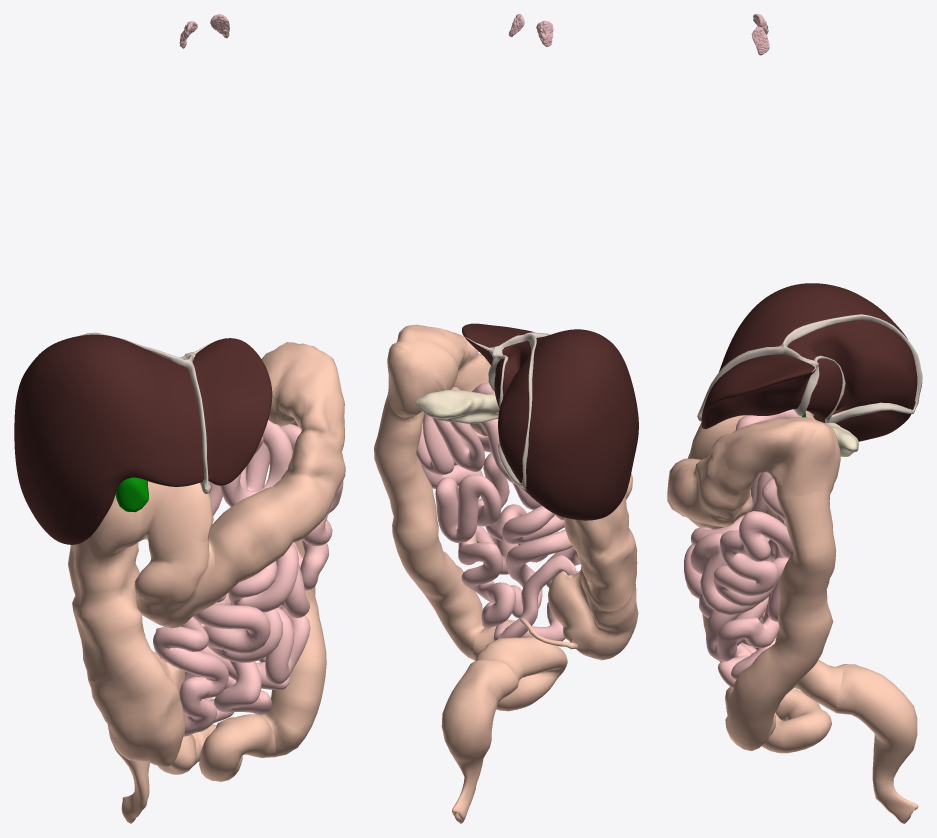
The model's file is digestive-meshopt.glb.
3 views of the same model, side by side, from view 1: azimuth 30°, elevation 25°; view 2: azimuth 150°, elevation 25°; view 3: azimuth 270°, elevation 25° (orthographic). The views are drawn at different scales.
Parts seen in each view (by area): view 1: VH_M_liver_capsule, VH_M_transverse_colon, VH_M_ileum, VH_M_ascending_colon, VH_M_jejunum, VH_M_caecum, VH_M_descending_colon, VH_M_sigmoid_colon, VH_M_hepatic_flexure_of_colon, VH_M_splenic_flexure_of_colon, VH_M_rectum, VH_M_gallbladder (+1 smaller); view 2: VH_M_liver_capsule, VH_M_descending_colon, VH_M_jejunum, VH_M_ileum, VH_M_rectum, VH_M_ascending_colon, VH_M_caecum, VH_M_sigmoid_colon, VH_M_splenic_flexure_of_colon, VH_M_bare_area_of_liver, VH_M_transverse_colon, VH_M_ileum_terminal (+3 smaller); view 3: VH_M_descending_colon, VH_M_liver_capsule, VH_M_jejunum, VH_M_transverse_colon, VH_M_rectum, VH_M_bare_area_of_liver, VH_M_splenic_flexure_of_colon, VH_M_sigmoid_colon, VH_M_ileum, VH_M_coronary_ligament_of_liver, VH_M_falciform_ligament, VH_M_caudate_lobe_of_liver (+3 smaller).
Part boxes in pixels (<box>): VH_M_liver_capsule: <box>14,334,272,544</box>; VH_M_transverse_colon: <box>134,343,345,628</box>; VH_M_ileum: <box>153,601,310,736</box>; VH_M_ascending_colon: <box>68,495,150,682</box>; VH_M_jejunum: <box>216,420,343,618</box>; VH_M_caecum: <box>88,649,185,767</box>; VH_M_descending_colon: <box>259,351,326,756</box>; VH_M_sigmoid_colon: <box>158,712,275,781</box>; VH_M_hepatic_flexure_of_colon: <box>88,483,210,553</box>; VH_M_splenic_flexure_of_colon: <box>261,342,344,426</box>; VH_M_rectum: <box>107,724,149,823</box>; VH_M_gallbladder: <box>115,477,148,512</box>; VH_M_liver_capsule: <box>462,323,638,520</box>; VH_M_descending_colon: <box>374,343,484,660</box>; VH_M_jejunum: <box>416,382,555,544</box>; VH_M_ileum: <box>458,504,580,641</box>; VH_M_rectum: <box>441,659,518,823</box>; VH_M_ascending_colon: <box>564,480,637,611</box>; VH_M_caecum: <box>548,570,638,660</box>; VH_M_sigmoid_colon: <box>473,619,567,711</box>; VH_M_splenic_flexure_of_colon: <box>387,325,467,418</box>; VH_M_bare_area_of_liver: <box>498,341,531,481</box>; VH_M_transverse_colon: <box>395,324,632,520</box>; VH_M_ileum_terminal: <box>498,555,576,638</box>; VH_M_descending_colon: <box>725,423,840,750</box>; VH_M_liver_capsule: <box>701,283,915,441</box>; VH_M_jejunum: <box>690,473,793,621</box>; VH_M_transverse_colon: <box>667,415,823,529</box>; VH_M_rectum: <box>836,664,918,823</box>; VH_M_bare_area_of_liver: <box>787,320,917,412</box>; VH_M_splenic_flexure_of_colon: <box>724,417,840,497</box>; VH_M_sigmoid_colon: <box>725,659,844,753</box>; VH_M_ileum: <box>684,544,779,688</box>; VH_M_coronary_ligament_of_liver: <box>781,314,922,423</box>; VH_M_falciform_ligament: <box>697,345,782,415</box>; VH_M_caudate_lobe_of_liver: <box>793,337,851,414</box>.
Bounding box in the file's own units: 0.2763 × 0.7914 × 0.2286.
